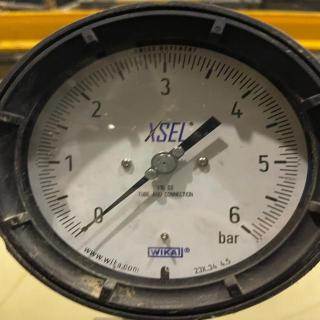gauge: (10, 20, 320, 300), (68, 206, 108, 246), (228, 210, 256, 241), (150, 151, 178, 175), (73, 232, 83, 240)
